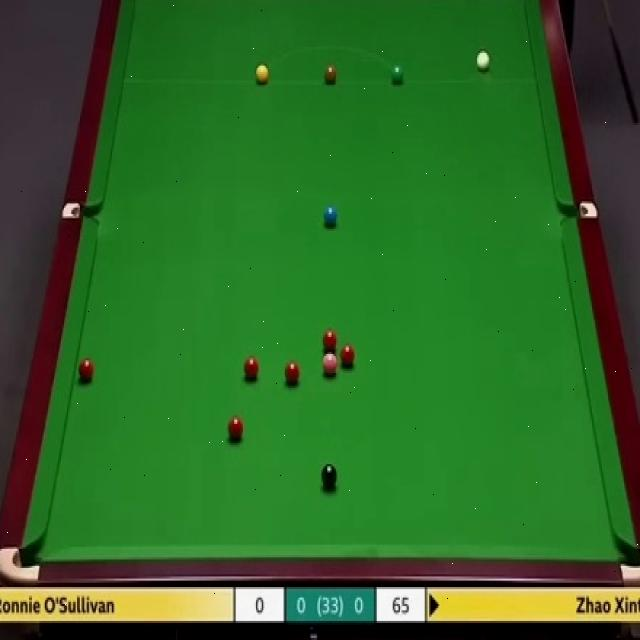black-ball: (321, 464, 336, 488)
blue-ball: (322, 205, 337, 228)
brown-ball: (323, 64, 338, 84)
green-ball: (391, 64, 404, 84)
pink-ball: (321, 353, 338, 377)
red-ball: (78, 357, 95, 383), (227, 415, 244, 440), (244, 356, 260, 382), (340, 344, 356, 368), (323, 328, 337, 354), (285, 362, 299, 385)
white-ball: (476, 50, 490, 74)
yellow-ball: (253, 64, 269, 85)
